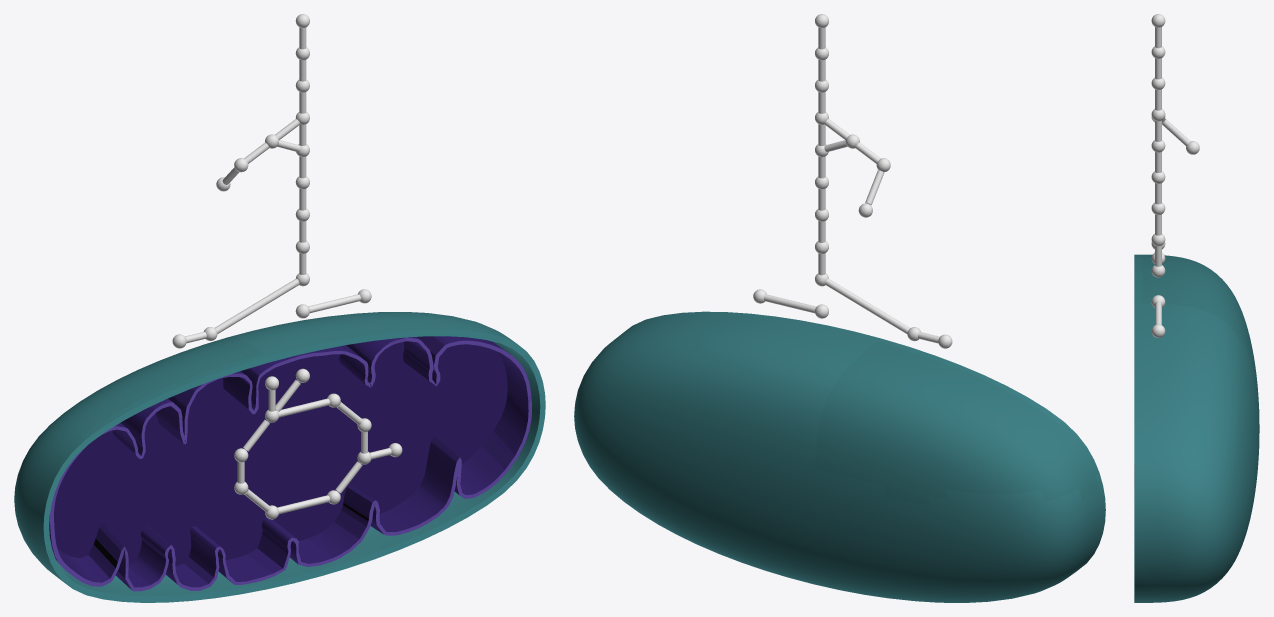
File: CleanNetwork.fbx
The picture shows the model from 3 angles, left to right: view 1: azimuth 30°, elevation 25°; view 2: azimuth 150°, elevation 25°; view 3: azimuth 270°, elevation 25°; orthographic projection. The views are drawn at different scales.
Parts seen in each view (by area): view 1: Mitochondria_FBX2013_VertexPaint12.011, Edge13; view 2: Mitochondria_FBX2013_VertexPaint12.011, Edge13; view 3: Mitochondria_FBX2013_VertexPaint12.011, Edge11.001.
Boxes of the visible parts, x1=… form: Mitochondria_FBX2013_VertexPaint12.011: x1=14, y1=312, x2=545, y2=602; Edge13: x1=215, y1=278, x2=299, y2=333; Mitochondria_FBX2013_VertexPaint12.011: x1=574, y1=311, x2=1105, y2=602; Edge13: x1=825, y1=278, x2=910, y2=333; Mitochondria_FBX2013_VertexPaint12.011: x1=1134, y1=254, x2=1259, y2=602; Edge11.001: x1=1162, y1=118, x2=1190, y2=145.
Size of the model in its own units: 1631 by 1719 by 363.
